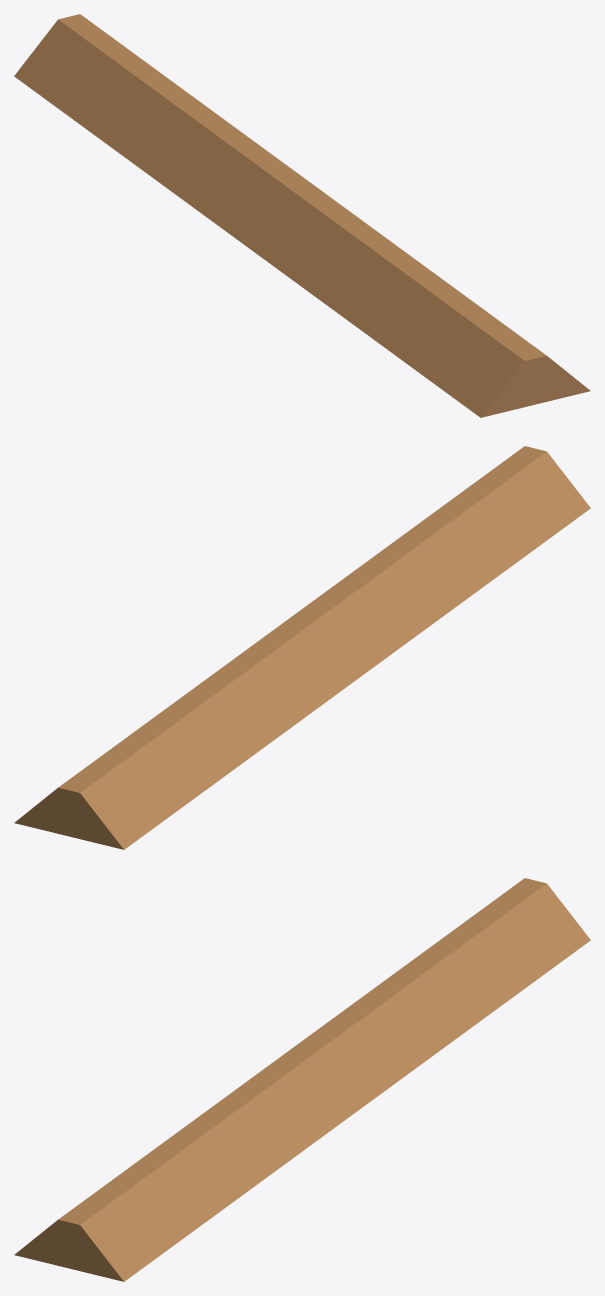
The model's file is SM_Splinter.fbx.
3 views of the same model, one above another, from view 1: azimuth 30°, elevation 25°; view 2: azimuth 150°, elevation 25°; view 3: azimuth 330°, elevation 25° (orthographic).
Parts seen in each view (by area): view 1: Splinter; view 2: Splinter; view 3: Splinter.
Boxes of the visible parts, x1,y1,x2,y2 form: Splinter: (14,14,590,417); Splinter: (14,446,590,849); Splinter: (14,878,590,1281).
Bounding box in the file's own units: 3 × 22 × 1.2.
